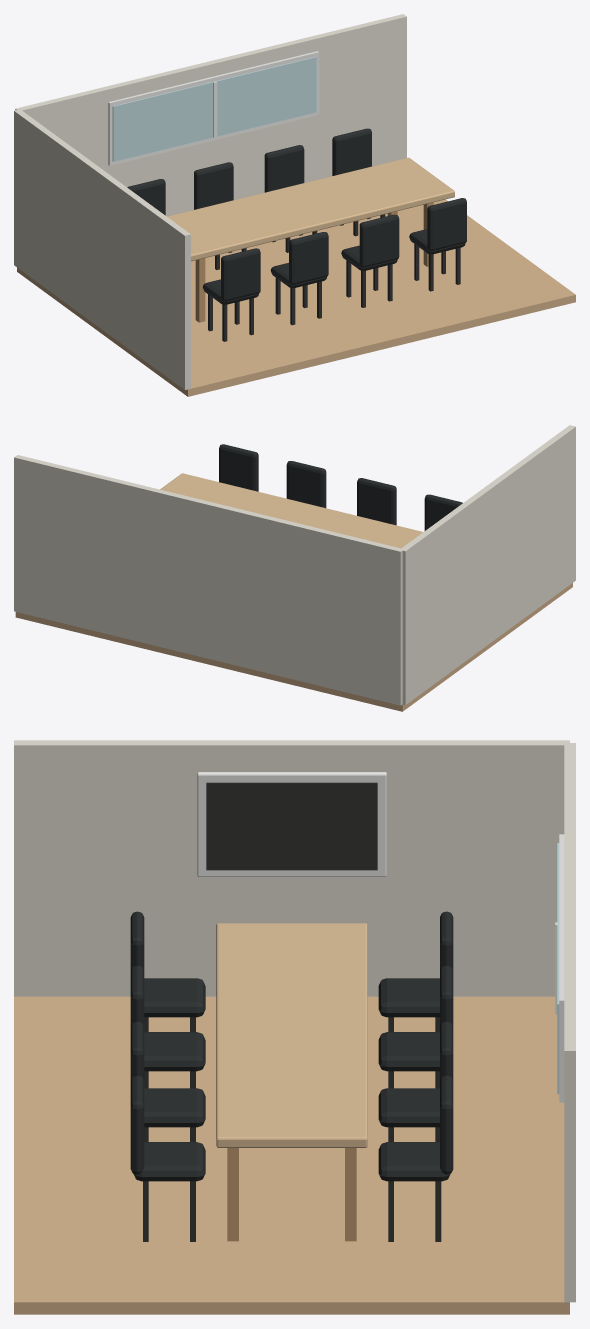
File: room5.glb
3 views of the same model, one above another, from view 1: azimuth 30°, elevation 25°; view 2: azimuth 150°, elevation 25°; view 3: azimuth 270°, elevation 25° (orthographic). The views are drawn at different scales.
Parts seen in each view (by area): view 1: Floor, Left wall, Back wall, Meeting table, Window glass, Window surround, Chair back.004, Chair back, Chair back.002, Chair back.006, Chair back.005, Chair back.003 (+3 smaller); view 2: Back wall, Left wall, Meeting table, Floor, Chair back.004, Chair back.006, Chair back.002, Chair back; view 3: Floor, Left wall, Meeting table, Screen, Back wall, Screen frame, Chair seat.006, Chair seat.007, Chair seat.002, Chair seat.004, Chair seat, Chair seat.003 (+14 smaller).
Boxes of the visible parts, x1,y1,x2,y2 form: Floor: (17, 199, 575, 396); Left wall: (14, 109, 190, 389); Back wall: (15, 14, 406, 216); Meeting table: (167, 157, 454, 261); Window glass: (112, 56, 316, 161); Window surround: (108, 51, 319, 165); Chair back.004: (359, 214, 399, 267); Chair back: (221, 248, 260, 301); Chair back.002: (289, 232, 328, 284); Chair back.006: (427, 198, 466, 251); Chair back.005: (264, 145, 304, 192); Chair back.003: (194, 162, 233, 209); Back wall: (14, 455, 403, 705); Left wall: (400, 425, 575, 704); Meeting table: (160, 473, 423, 548); Floor: (15, 583, 572, 711); Chair back.004: (286, 461, 326, 507); Chair back.006: (219, 444, 258, 491); Chair back.002: (357, 478, 396, 525); Chair back: (424, 494, 462, 530); Floor: (14, 996, 569, 1314); Left wall: (14, 740, 569, 996); Meeting table: (216, 923, 367, 1147); Screen: (206, 782, 377, 870); Back wall: (564, 743, 575, 1302); Screen frame: (197, 772, 386, 876); Chair seat.006: (133, 1142, 205, 1181); Chair seat.007: (378, 1142, 450, 1181); Chair seat.002: (144, 1032, 205, 1071); Chair seat.004: (144, 1088, 205, 1127); Chair seat: (144, 978, 205, 1017); Chair seat.003: (378, 1032, 439, 1071).
Size of the model in its own units: 4.38 by 1.73 by 3.34.
